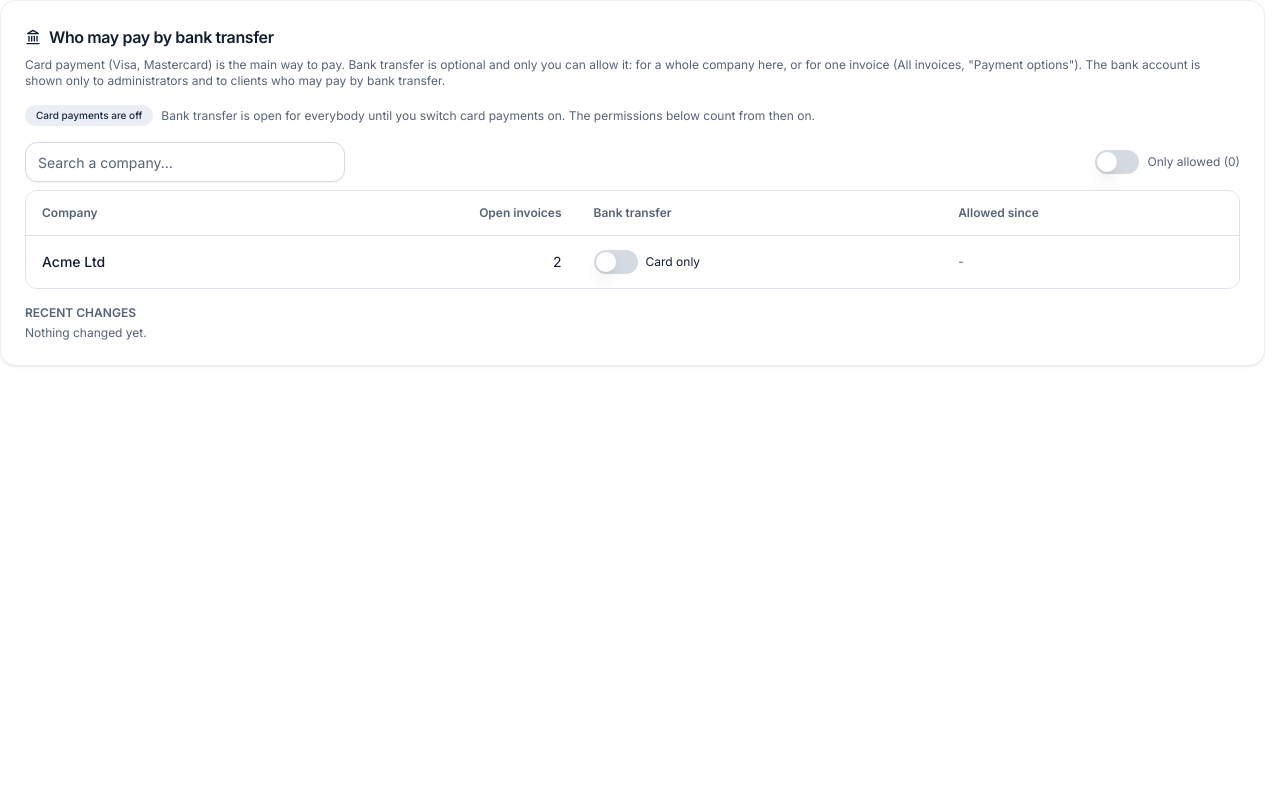
it: BankTransferSettingsCard › asks first, then allows the company with the note
This screenshot has width=1280, height=800.
Later steps or results of the test are not shown.
Click the switch named "Allow bank transfer for Acme Ltd" at (616, 262), box [594,250,638,274]
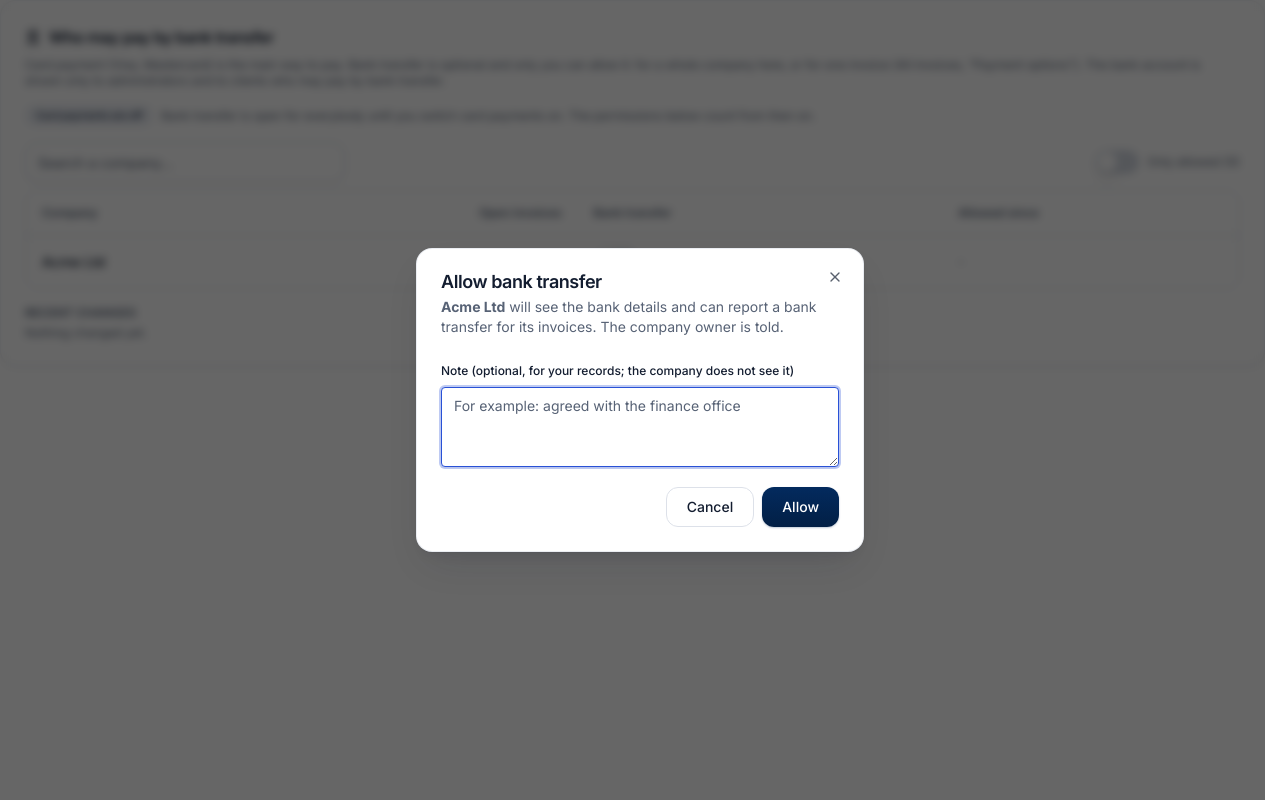
Result: the heading "Allow bank transfer" is shown at [441,271,602,292]
